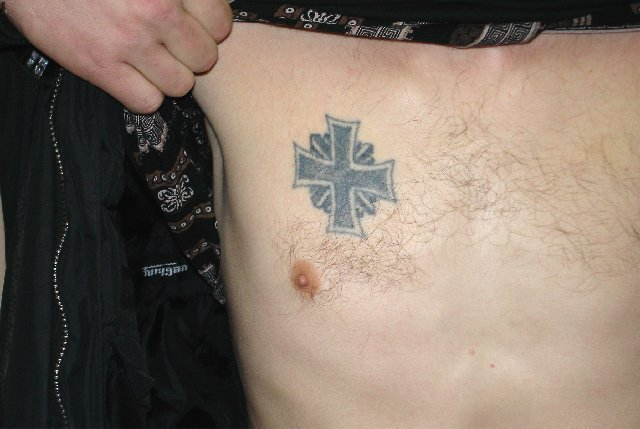tatu9_krest: (285, 98, 413, 237)
